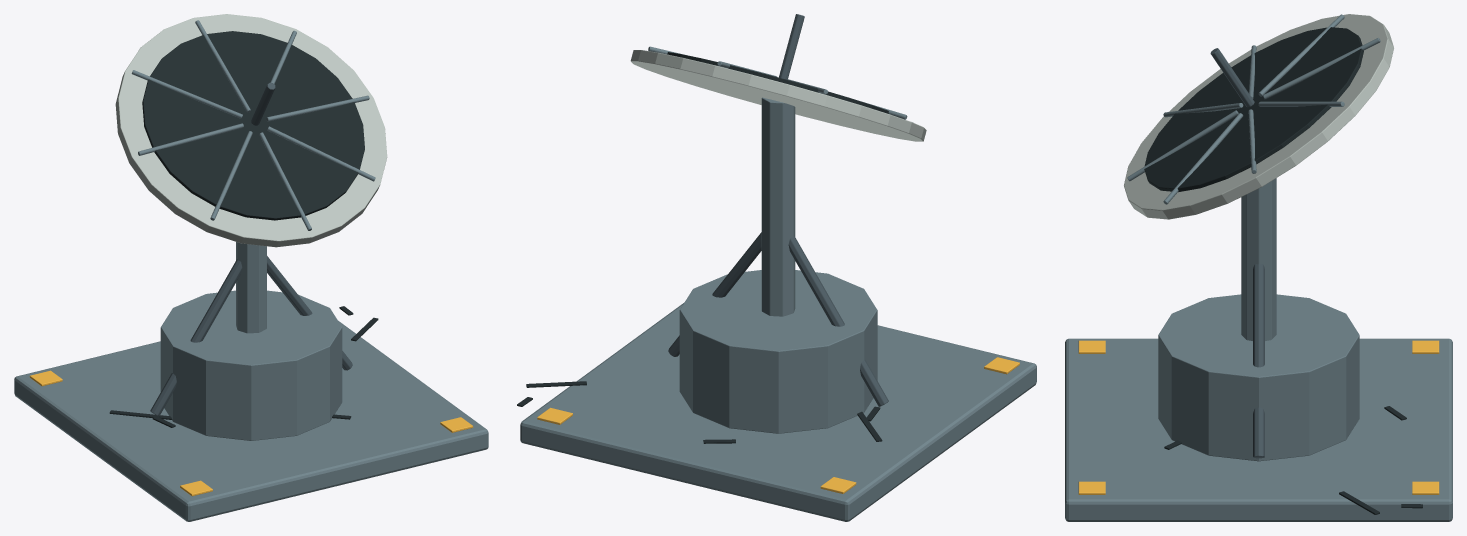
Rendered from command_comms_d1.glb.
The picture shows the model from 3 angles, left to right: view 1: azimuth 30°, elevation 25°; view 2: azimuth 150°, elevation 25°; view 3: azimuth 270°, elevation 25°; orthographic projection. The views are drawn at different scales.
Visible parts, largest first — view 1: Foundation.021, Receiver recess.001, Azimuth pedestal.001, Dish reflector.001, Relay mast.001, Mast stabilizer.002, Mast stabilizer.003, Dish rib.011, Dish rib.015, Dish rib.012, Dish rib.014; view 2: Foundation.021, Azimuth pedestal.001, Relay mast.001, Dish reflector.001, Mast stabilizer.002, Mast stabilizer.003, Receiver recess.001, Feed horn.001; view 3: Foundation.021, Azimuth pedestal.001, Receiver recess.001, Dish reflector.001, Relay mast.001, Mast stabilizer.003, Feed horn.001, Dish rib.010, Dish rib.014, Dish rib.015, Dish rib.011, Dish rib.009.
Part boxes in pixels (x1,y1,x2,y2): Foundation.021: (14, 320, 488, 521); Receiver recess.001: (142, 31, 364, 220); Azimuth pedestal.001: (160, 290, 342, 440); Dish reflector.001: (115, 14, 387, 247); Relay mast.001: (236, 242, 266, 333); Mast stabilizer.002: (150, 259, 242, 416); Mast stabilizer.003: (267, 256, 352, 370); Dish rib.011: (131, 70, 242, 118); Dish rib.015: (267, 126, 375, 181); Dish rib.012: (138, 123, 243, 155); Dish rib.014: (259, 132, 311, 230); Foundation.021: (520, 302, 1036, 521); Azimuth pedestal.001: (679, 270, 877, 433); Relay mast.001: (761, 97, 795, 316); Dish reflector.001: (630, 50, 926, 141); Mast stabilizer.002: (788, 236, 888, 406); Mast stabilizer.003: (668, 232, 761, 356); Receiver recess.001: (667, 52, 888, 113); Feed horn.001: (779, 14, 804, 79); Foundation.021: (1065, 338, 1452, 521); Azimuth pedestal.001: (1158, 294, 1359, 461); Receiver recess.001: (1144, 27, 1363, 192); Dish reflector.001: (1124, 14, 1393, 219); Relay mast.001: (1241, 178, 1276, 340); Mast stabilizer.003: (1253, 264, 1264, 458); Feed horn.001: (1210, 48, 1254, 107); Dish rib.010: (1263, 38, 1380, 99); Dish rib.014: (1127, 110, 1238, 181); Dish rib.015: (1163, 113, 1243, 204); Dish rib.011: (1258, 14, 1344, 96); Dish rib.009: (1258, 101, 1344, 106).
Bounding box in the file's own units: 5.46 × 5.74 × 5.
